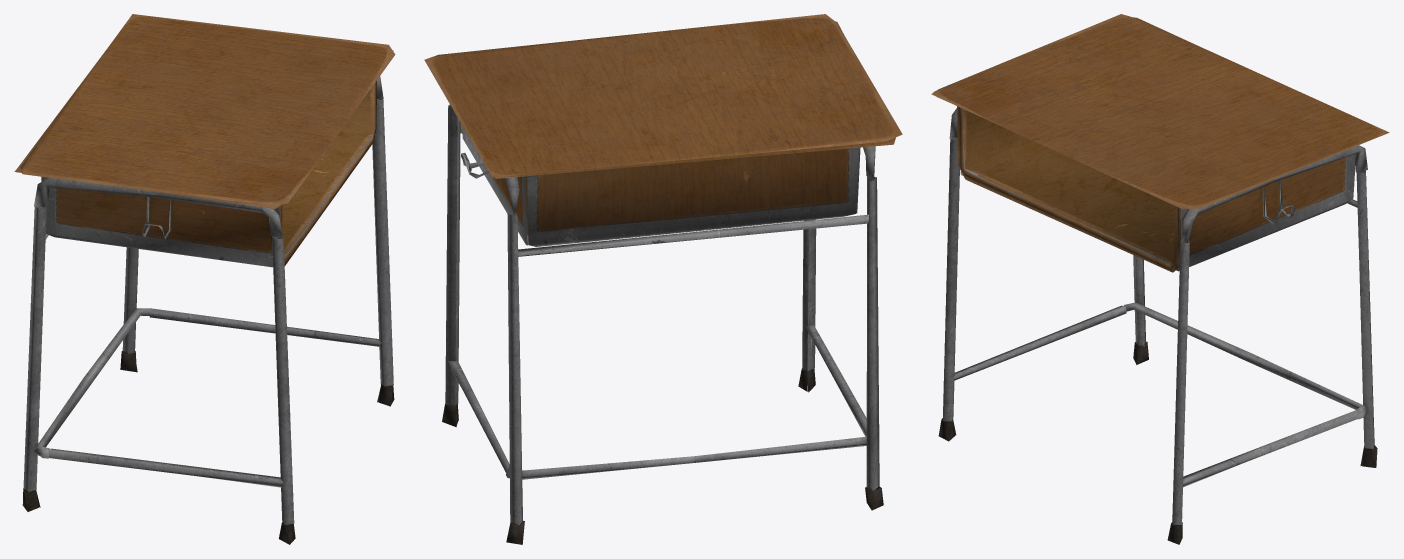
Rendered from table.glb.
The picture shows the model from 3 angles, left to right: view 1: azimuth 30°, elevation 25°; view 2: azimuth 150°, elevation 25°; view 3: azimuth 270°, elevation 25°; orthographic projection. The views are drawn at different scales.
Parts seen in each view (by area): view 1: defaultMaterial, defaultMaterial.001; view 2: defaultMaterial, defaultMaterial.001; view 3: defaultMaterial, defaultMaterial.001.
Boxes of the visible parts, <box> form: defaultMaterial: <box>14,14,395,267</box>; defaultMaterial.001: <box>22,76,394,544</box>; defaultMaterial: <box>424,14,902,246</box>; defaultMaterial.001: <box>442,104,883,544</box>; defaultMaterial: <box>931,14,1389,272</box>; defaultMaterial.001: <box>938,108,1377,544</box>.
Size of the model in its own units: 1.74 by 1.41 by 1.73.
1 material, 1 textured.
